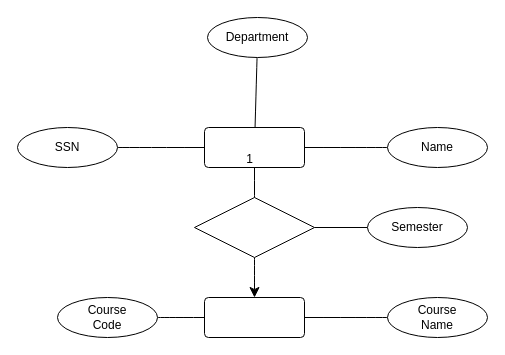
This 505x355 diagram has some shape labels left out. The box of each missing label's shape, as (x1, y1, x2, y2) in pixels:
Courses: (204, 296, 304, 338)
Professors: (204, 126, 304, 168)
Teaches: (194, 196, 314, 258)
